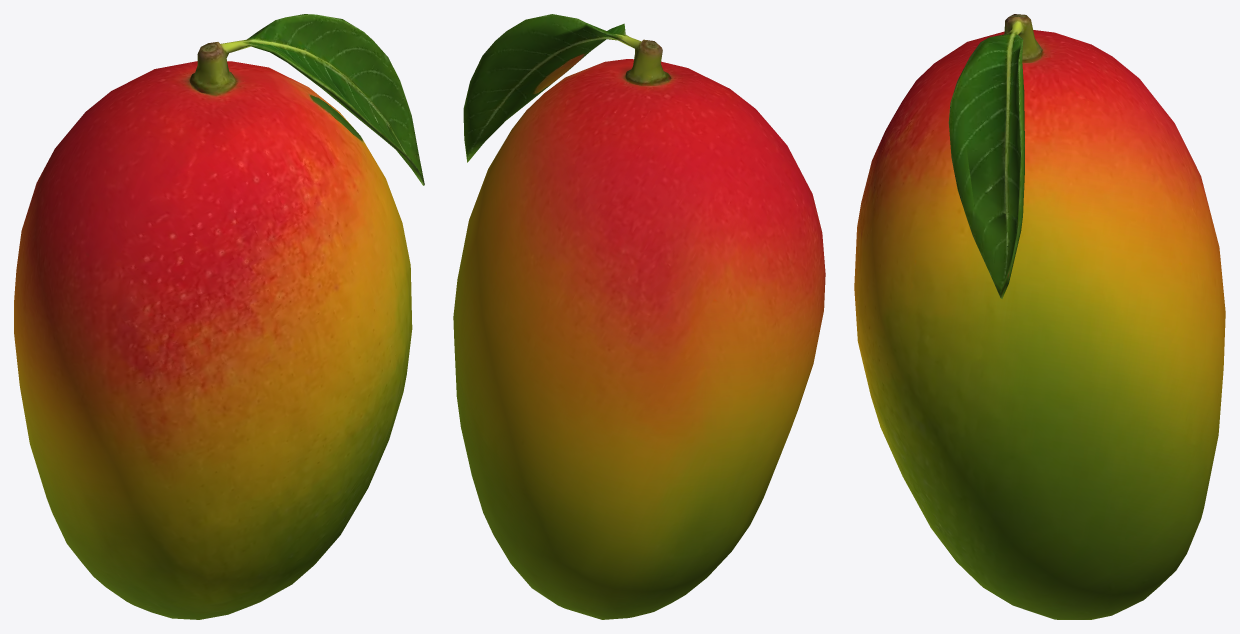
The model's file is mango.glb.
3 renders of one model, left to right at view 1: azimuth 30°, elevation 25°; view 2: azimuth 150°, elevation 25°; view 3: azimuth 270°, elevation 25°, orthographic. The views are drawn at different scales.
Visible parts, largest first — view 1: Model; view 2: Model; view 3: Model.
Boxes of the visible parts, x1,y1,x2,y2 form: Model: (14,14,424,619); Model: (453,14,825,619); Model: (854,14,1225,619).
Bounding box in the file's own units: 1.24 × 1.9 × 1.08.
Materials: 1 (1 with a texture image).
